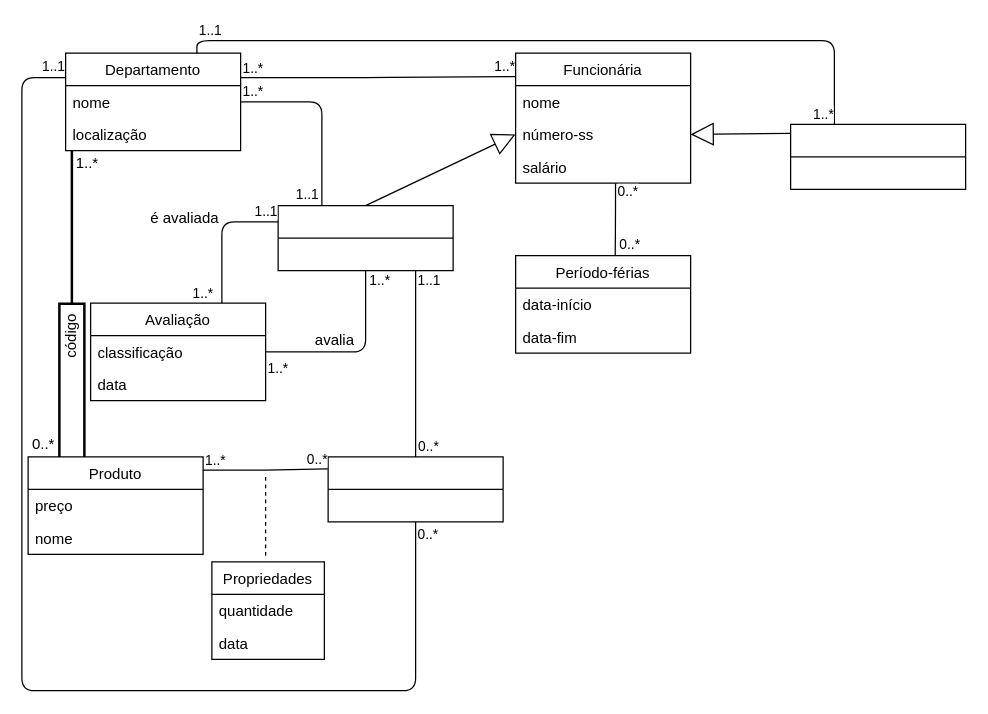
Some shapes in this 988 by 714 pixel diagram are drawn without their labels. The shapes that lost their labels are listed below. From the top down, each one's centre as x and y in pixels, then its label:
At point 877,156: "Assistente".
At point 365,237: "diretora".
At point 415,489: "Encomenda".
